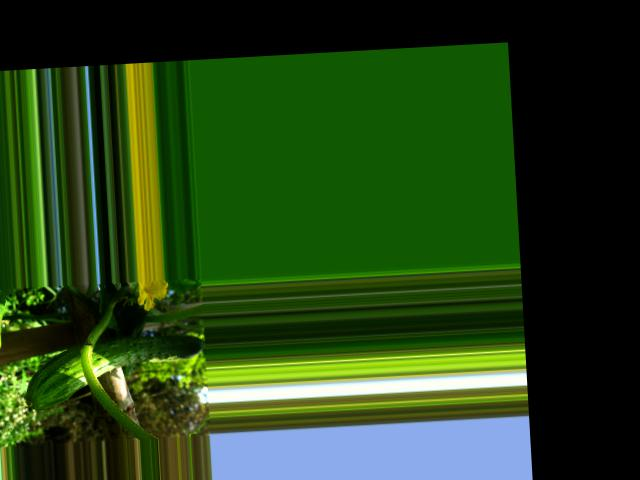cucumber: (22, 332, 208, 409)
